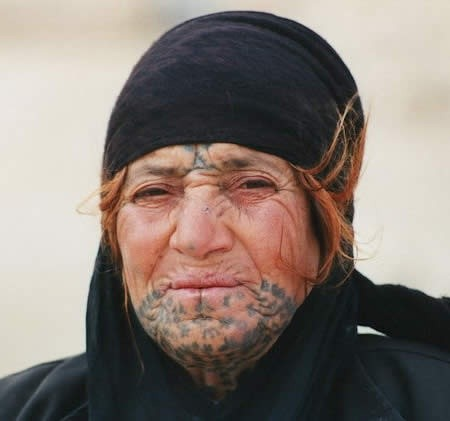face_no_mask: (103, 59, 332, 367)
